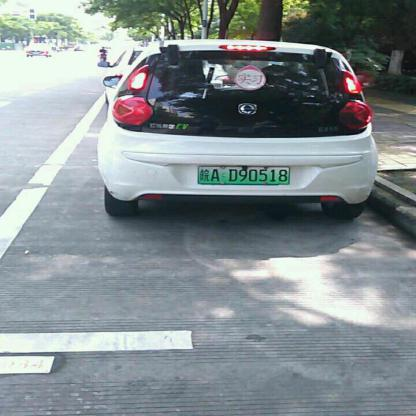lp: (199, 165, 290, 184)
